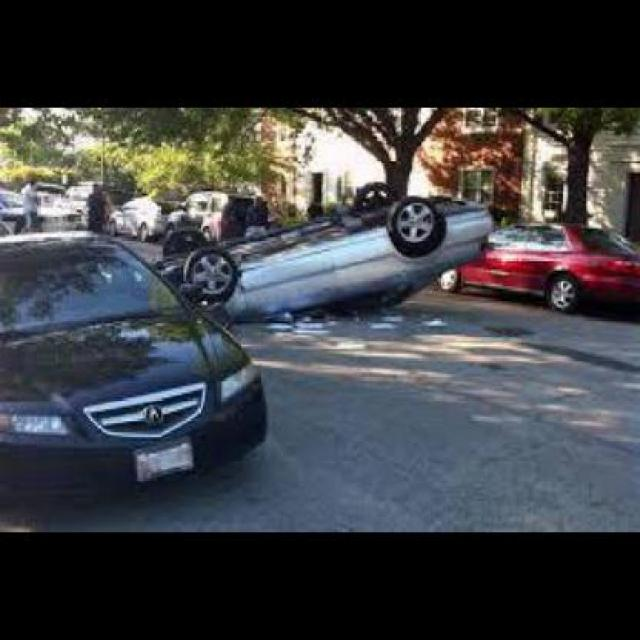accident: (151, 177, 495, 318)
